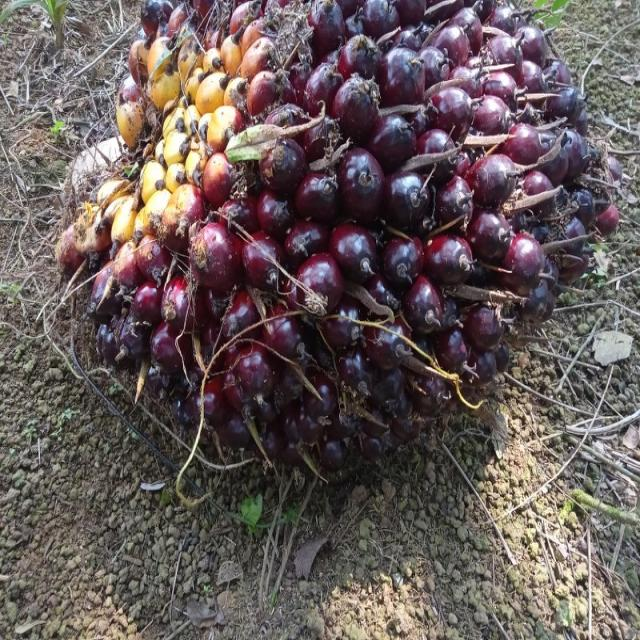fraksi 1: (80, 0, 604, 485)
